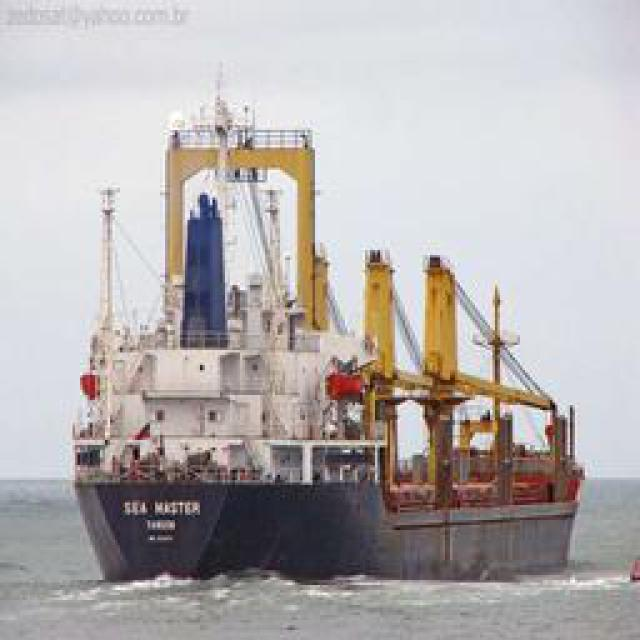Ship: (71, 96, 386, 584)
